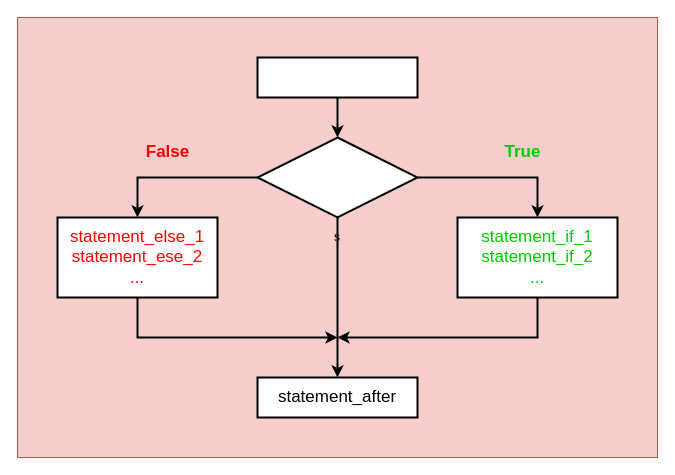
Some shapes in this 675 by 475 pixel diagram are drawn without their labels. Here are the shapes that lost their labels. From the top down, the box of each, then its label:
(256, 56, 418, 98): statement_before
(256, 136, 418, 218): exp
